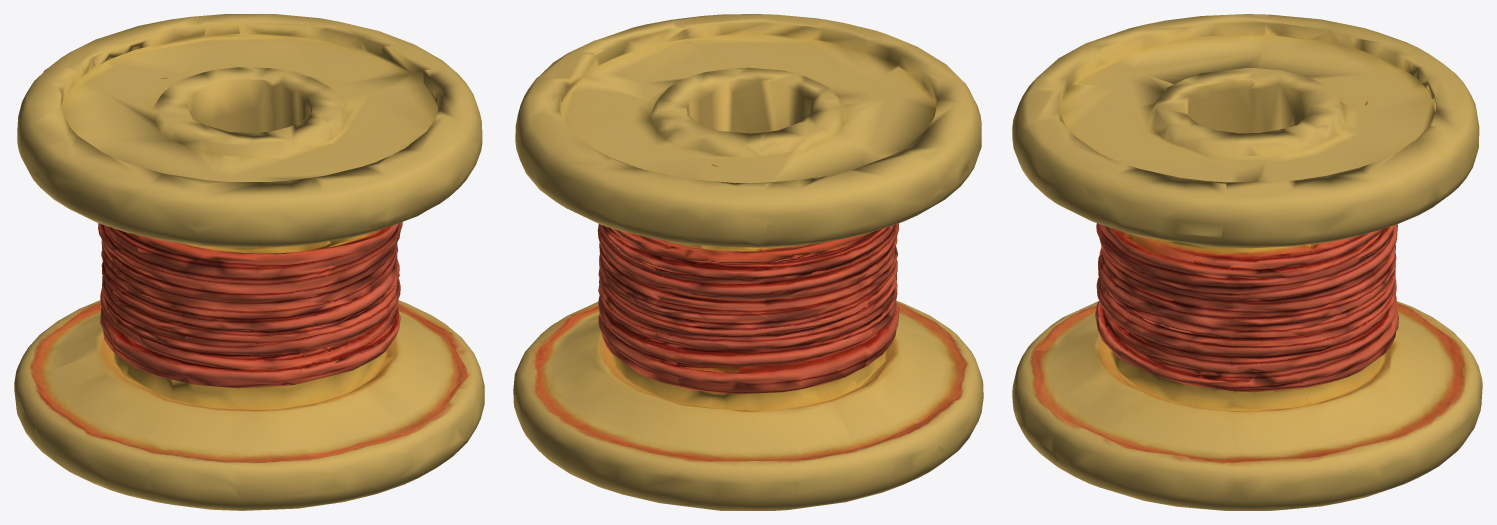
File: wire_spool.glb
3 views of the same model, side by side, from view 1: azimuth 30°, elevation 25°; view 2: azimuth 150°, elevation 25°; view 3: azimuth 270°, elevation 25° (orthographic).
Visible parts, largest first — view 1: tripo_node_448f7a7c-59ce-46d6-ad05-83eafff6048c; view 2: tripo_node_448f7a7c-59ce-46d6-ad05-83eafff6048c; view 3: tripo_node_448f7a7c-59ce-46d6-ad05-83eafff6048c.
Boxes of the visible parts, x1,y1,x2,y2 form: tripo_node_448f7a7c-59ce-46d6-ad05-83eafff6048c: [14, 14, 484, 510]; tripo_node_448f7a7c-59ce-46d6-ad05-83eafff6048c: [513, 14, 983, 510]; tripo_node_448f7a7c-59ce-46d6-ad05-83eafff6048c: [1012, 14, 1482, 510].
Size of the model in its own units: 0.9942 by 0.7471 by 0.9967.
1 material, 1 textured.
